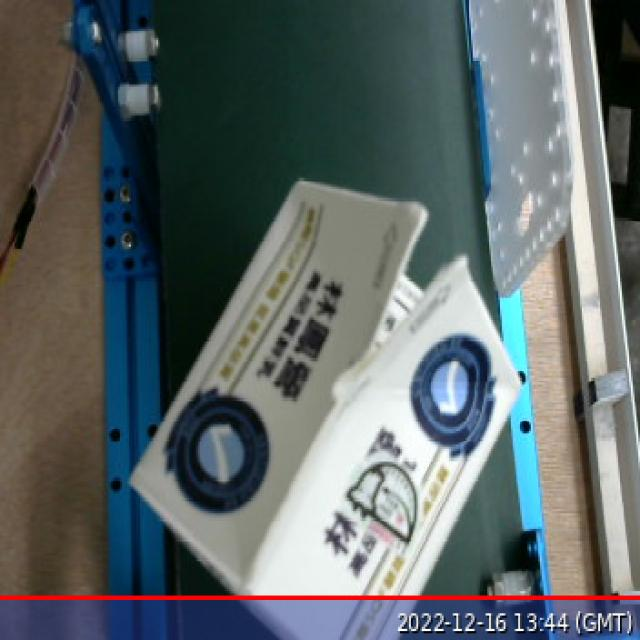non_white_jug: (112, 172, 539, 640)
